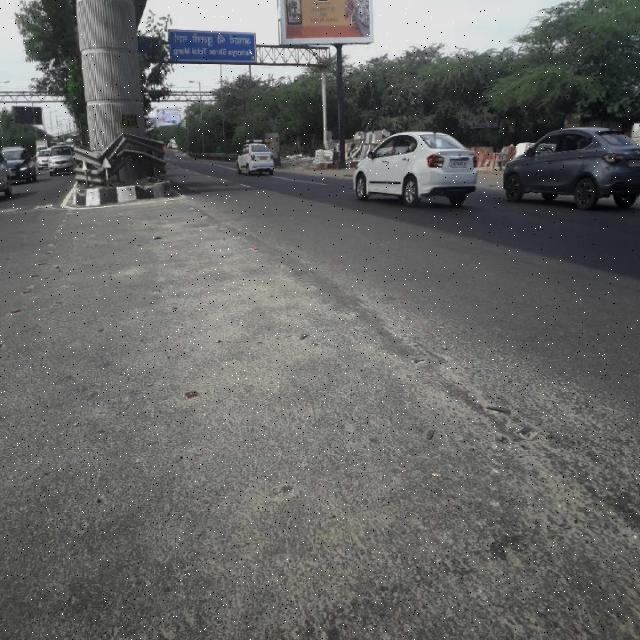D00: (440, 331, 640, 639)
